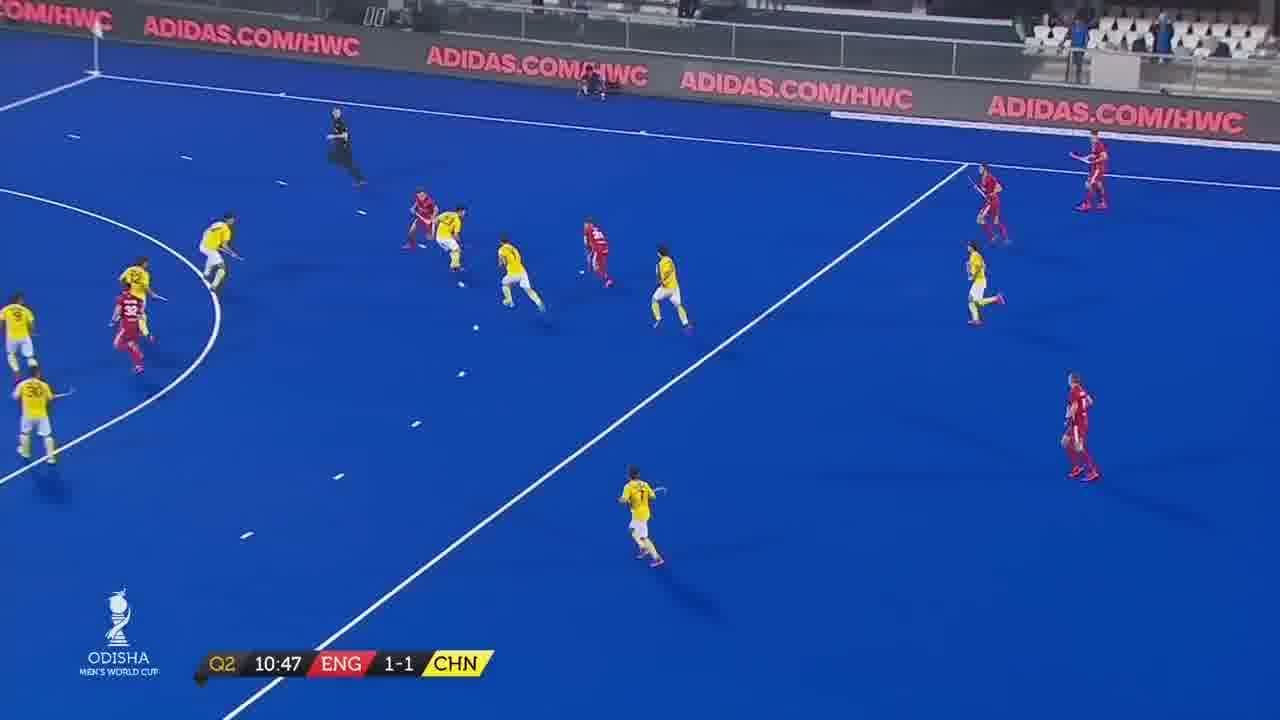ball: (576, 265, 588, 281)
